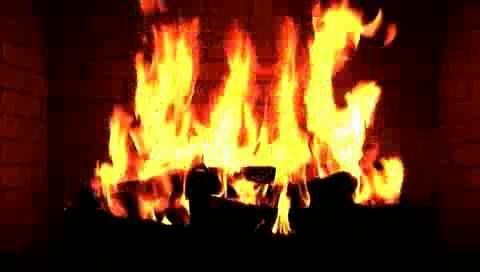fire: (89, 0, 409, 229)
